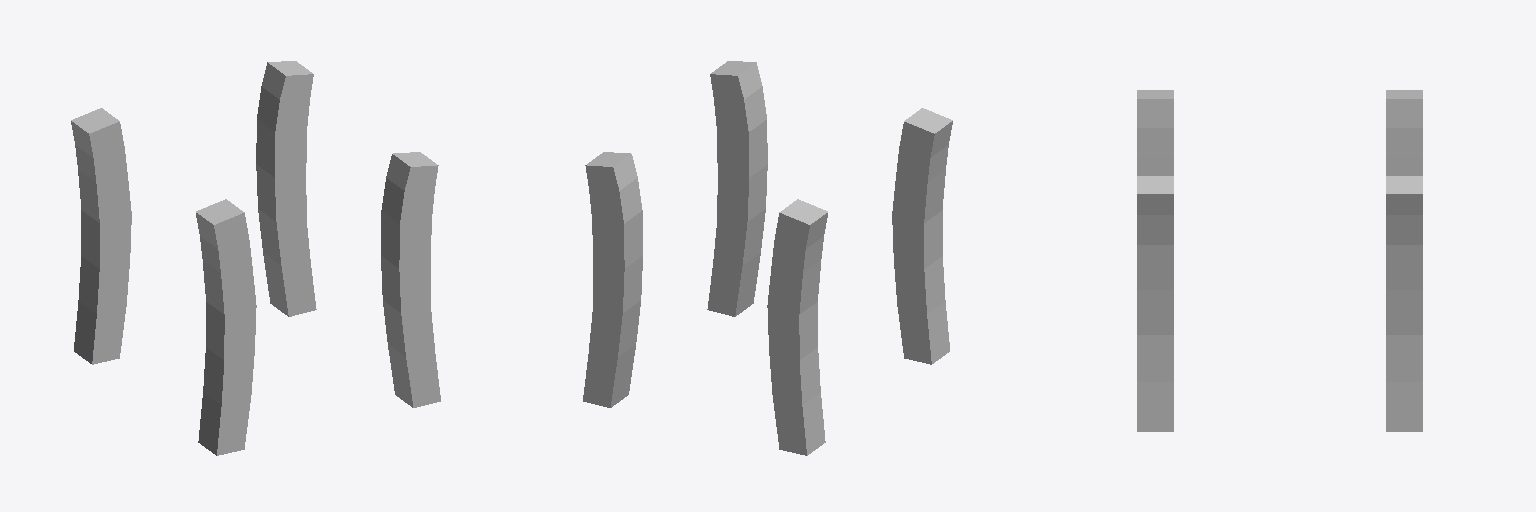
The model's file is Option4_P.obj.
3 views of the same model, side by side, from view 1: azimuth 30°, elevation 25°; view 2: azimuth 150°, elevation 25°; view 3: azimuth 270°, elevation 25° (orthographic).
Parts seen in each view (by area): view 1: Cube.029; view 2: Cube.029; view 3: Cube.029.
Boxes of the visible parts, <box> form: Cube.029: <box>71,61,440,455</box>; Cube.029: <box>583,61,952,455</box>; Cube.029: <box>1137,90,1422,431</box>.
Size of the model in its own units: 2.02 by 2.06 by 2.21.